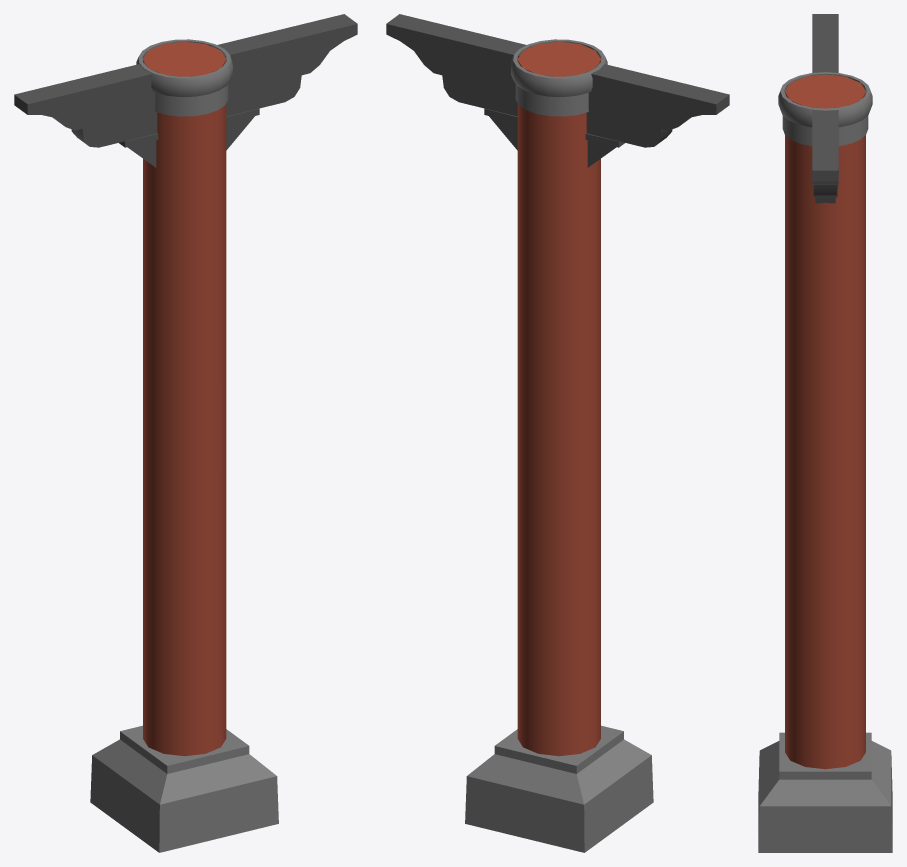
File: SM_pillar_architecture_03.fbx
3 views of the same model, side by side, from view 1: azimuth 30°, elevation 25°; view 2: azimuth 150°, elevation 25°; view 3: azimuth 270°, elevation 25° (orthographic). The views are drawn at different scales.
Visible parts, largest first — view 1: Object136; view 2: Object136; view 3: Object136.
Boxes of the visible parts, x1=… form: Object136: x1=14, y1=14, x2=357, y2=852; Object136: x1=386, y1=14, x2=729, y2=852; Object136: x1=758, y1=14, x2=892, y2=852.
Bounding box in the file's own units: 82.46 × 180 × 29.86.
